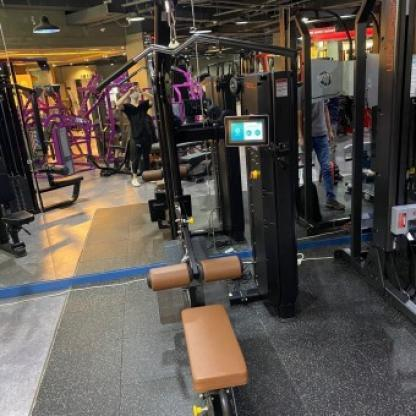Lat Pull Down: (83, 2, 315, 416)
